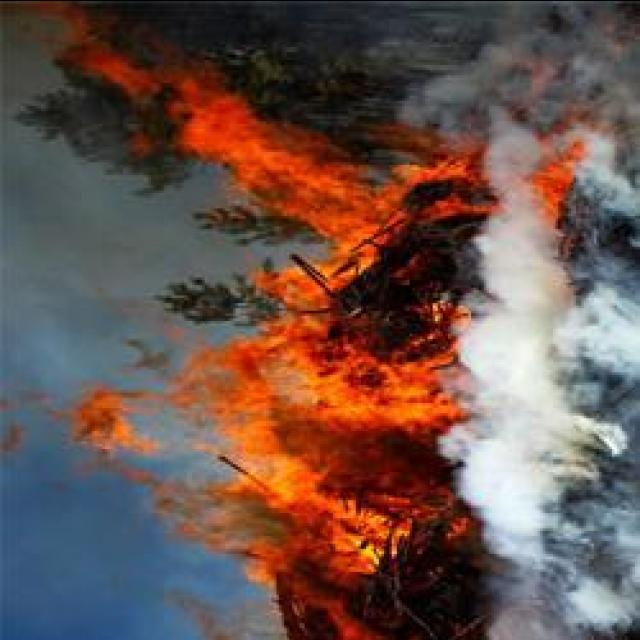fire: (210, 351, 284, 451), (316, 370, 446, 426), (262, 144, 348, 214), (198, 98, 264, 164), (255, 460, 321, 500), (318, 210, 376, 253), (342, 516, 383, 568), (405, 157, 475, 187)
smoke: (466, 311, 564, 439), (482, 0, 638, 74), (474, 210, 564, 336), (480, 518, 560, 640), (458, 434, 546, 532), (574, 21, 640, 141), (571, 126, 640, 226), (546, 299, 640, 372), (556, 560, 640, 628), (548, 400, 640, 462), (156, 582, 254, 640), (184, 489, 280, 544), (576, 506, 640, 564), (482, 109, 535, 179), (422, 58, 496, 108)
